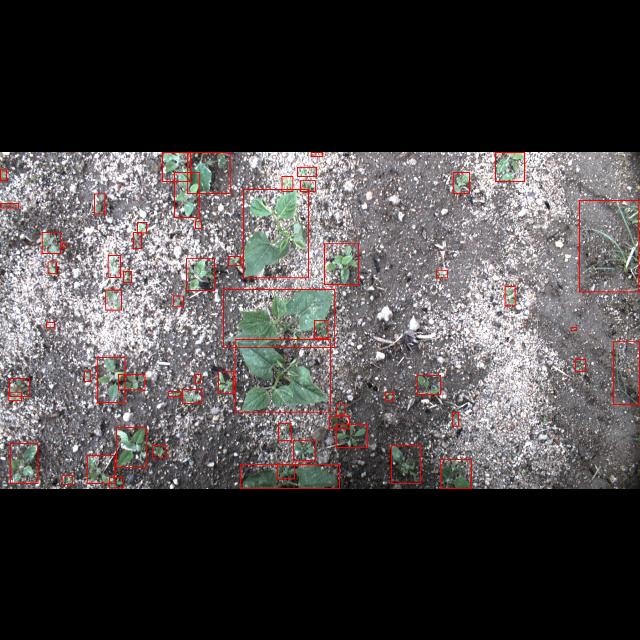crop: (234, 338, 330, 412), (223, 289, 335, 347), (244, 188, 308, 278), (240, 464, 340, 488), (188, 152, 230, 192), (116, 427, 146, 467), (174, 172, 200, 216), (10, 443, 38, 483), (186, 258, 214, 290), (441, 459, 471, 488), (495, 152, 525, 180), (162, 151, 190, 181), (417, 374, 441, 394)
weed: (579, 199, 639, 291), (613, 341, 639, 404), (324, 242, 358, 284), (97, 356, 125, 402), (391, 445, 421, 483), (87, 455, 115, 483), (337, 423, 368, 447), (293, 440, 315, 460), (119, 374, 145, 390), (41, 232, 60, 252), (452, 172, 470, 192), (9, 378, 29, 396), (218, 371, 234, 393), (182, 389, 202, 403), (106, 289, 120, 309), (108, 254, 120, 276), (278, 423, 292, 441), (314, 320, 328, 338), (277, 464, 295, 478), (329, 416, 349, 428), (505, 285, 515, 305), (95, 193, 105, 213), (152, 444, 166, 458), (298, 167, 316, 176), (300, 180, 316, 190), (109, 477, 123, 487), (282, 176, 292, 190), (133, 232, 141, 248), (8, 392, 22, 401), (228, 255, 240, 265), (575, 359, 585, 371), (1, 202, 19, 208), (173, 296, 183, 306), (124, 270, 132, 282), (48, 261, 56, 273), (453, 412, 459, 426), (62, 476, 72, 484), (138, 222, 146, 232), (337, 404, 345, 414), (437, 269, 447, 277), (85, 371, 91, 381), (0, 169, 6, 179), (168, 392, 182, 396), (386, 392, 392, 400), (195, 220, 201, 228), (311, 151, 323, 155), (46, 321, 54, 327), (196, 373, 200, 382), (62, 242, 66, 248), (572, 326, 576, 330)
